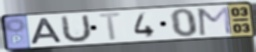0: (167, 7, 201, 38)
4: (133, 12, 157, 39)
A: (30, 17, 65, 46)
M: (197, 5, 234, 37)
T: (96, 11, 126, 43)
U: (61, 13, 94, 45)
